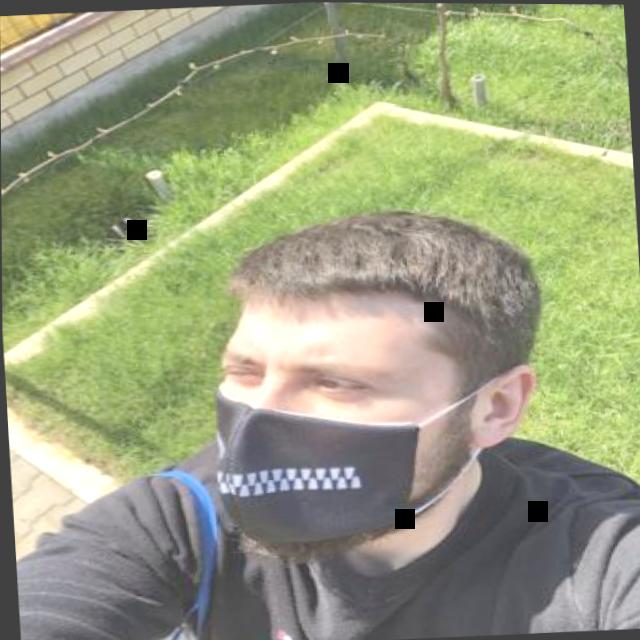Mask: (200, 301, 503, 569)
